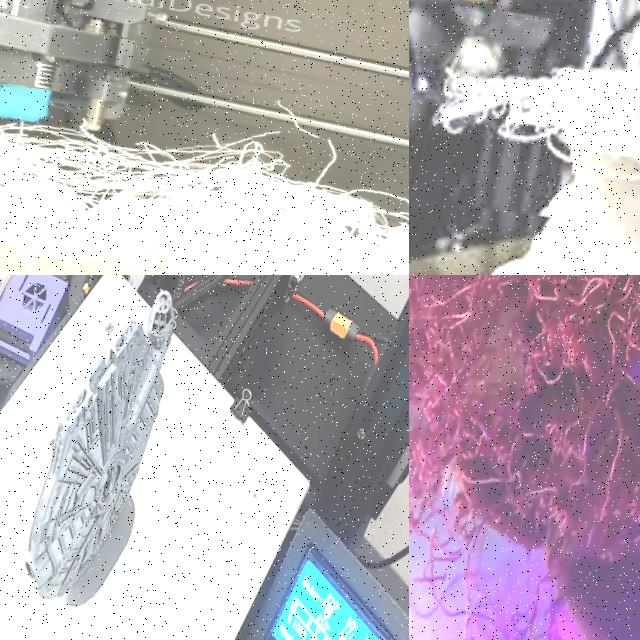spaghetti: (0, 53, 409, 275), (409, 275, 640, 640), (409, 0, 640, 275), (409, 501, 574, 640)
